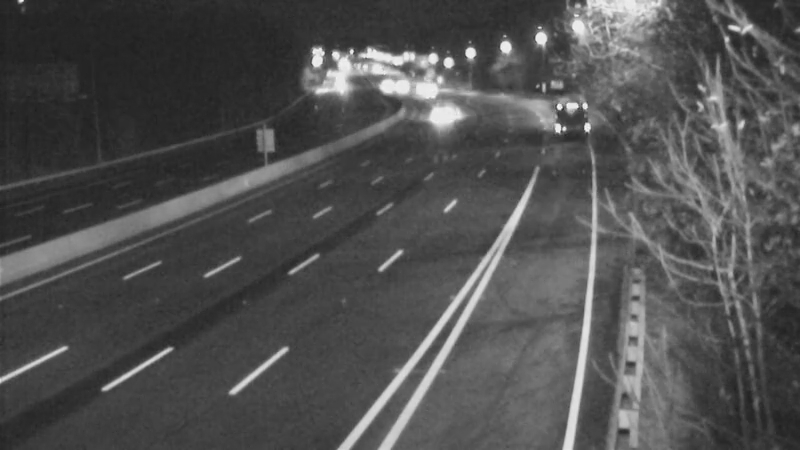vehicle: (374, 60, 424, 110), (357, 62, 407, 112), (394, 61, 444, 111), (403, 65, 453, 115), (399, 74, 449, 124), (533, 75, 583, 125), (419, 85, 469, 135)
